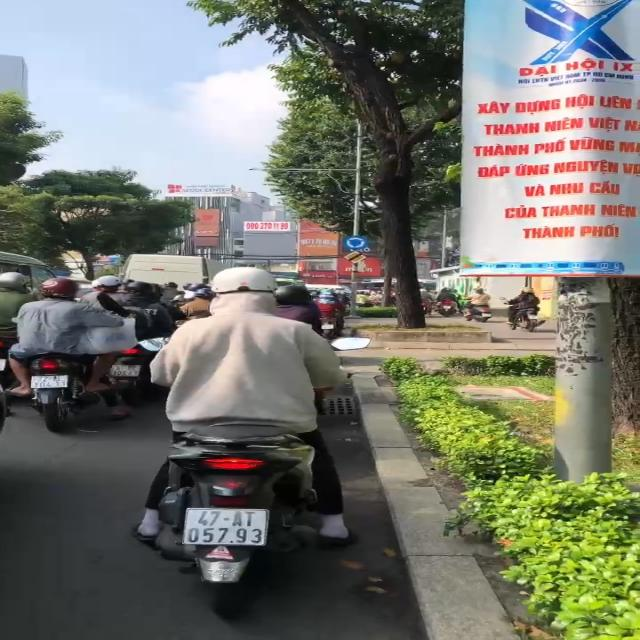Bien bao noi giao nhau chay theo vong xuyen: (343, 233, 370, 250)
